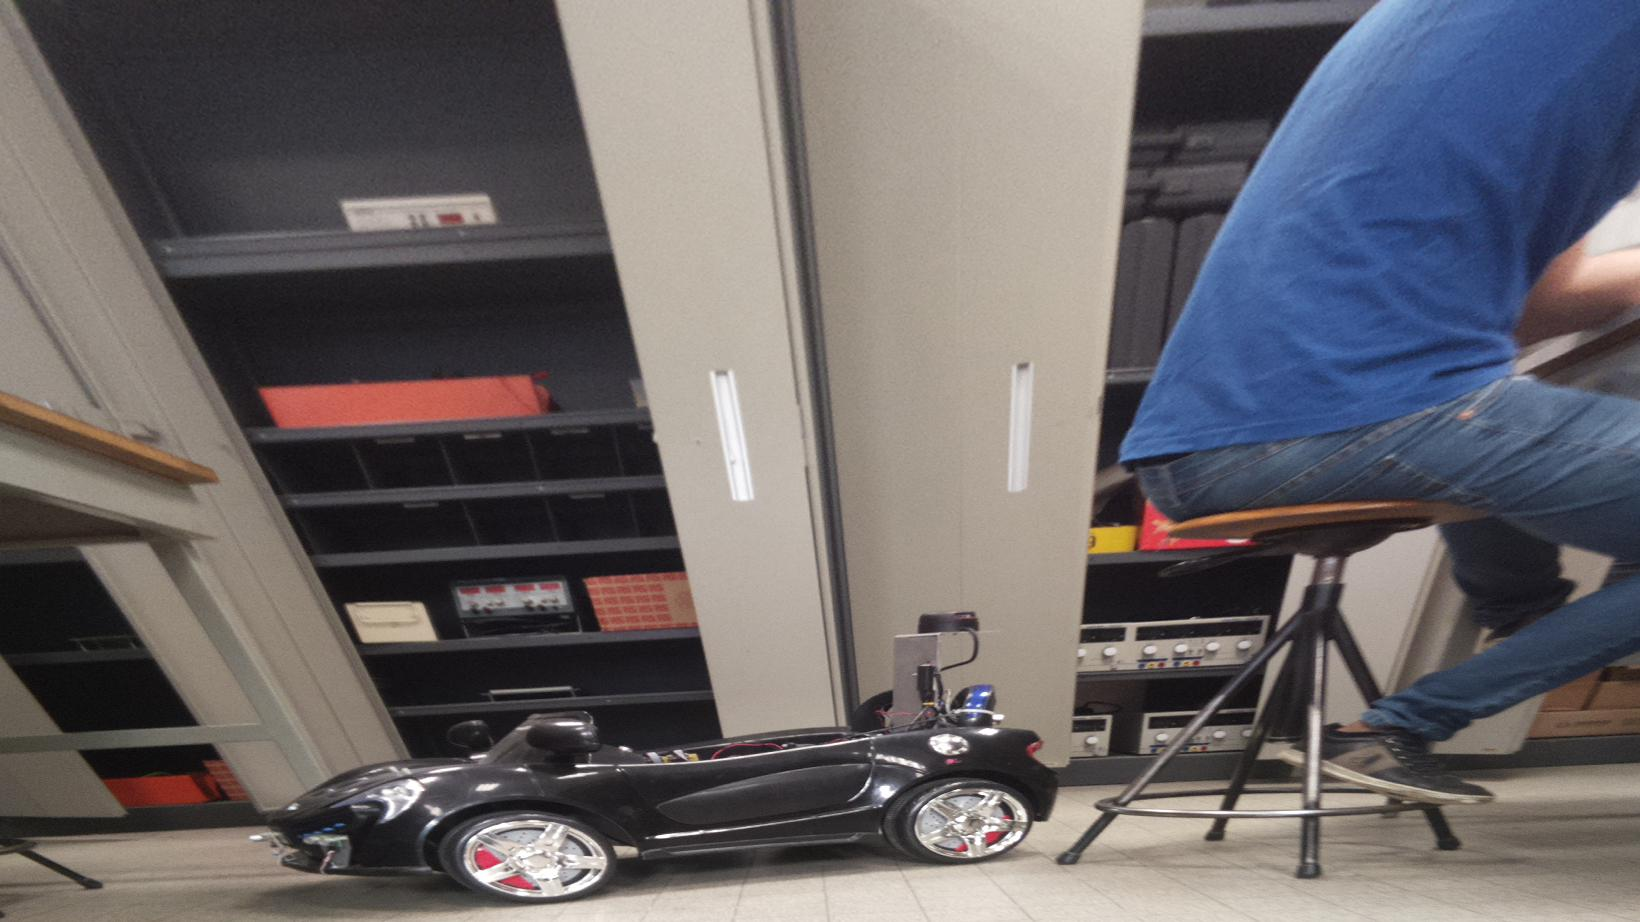big: (250, 605, 1067, 904)
